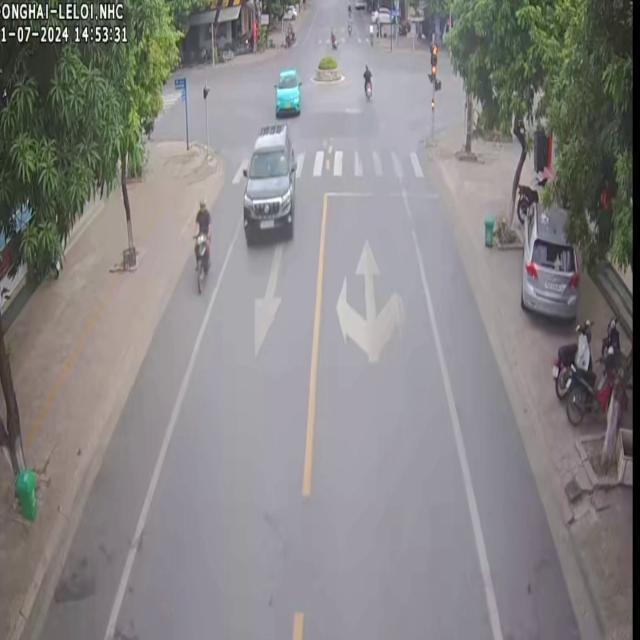car: (519, 200, 578, 318), (242, 122, 294, 240), (273, 65, 299, 116)
motobike: (564, 351, 622, 425), (550, 318, 590, 398), (193, 198, 209, 291), (362, 62, 370, 98)
stop_line: (323, 189, 441, 196)
yellow_light: (431, 41, 437, 83)
